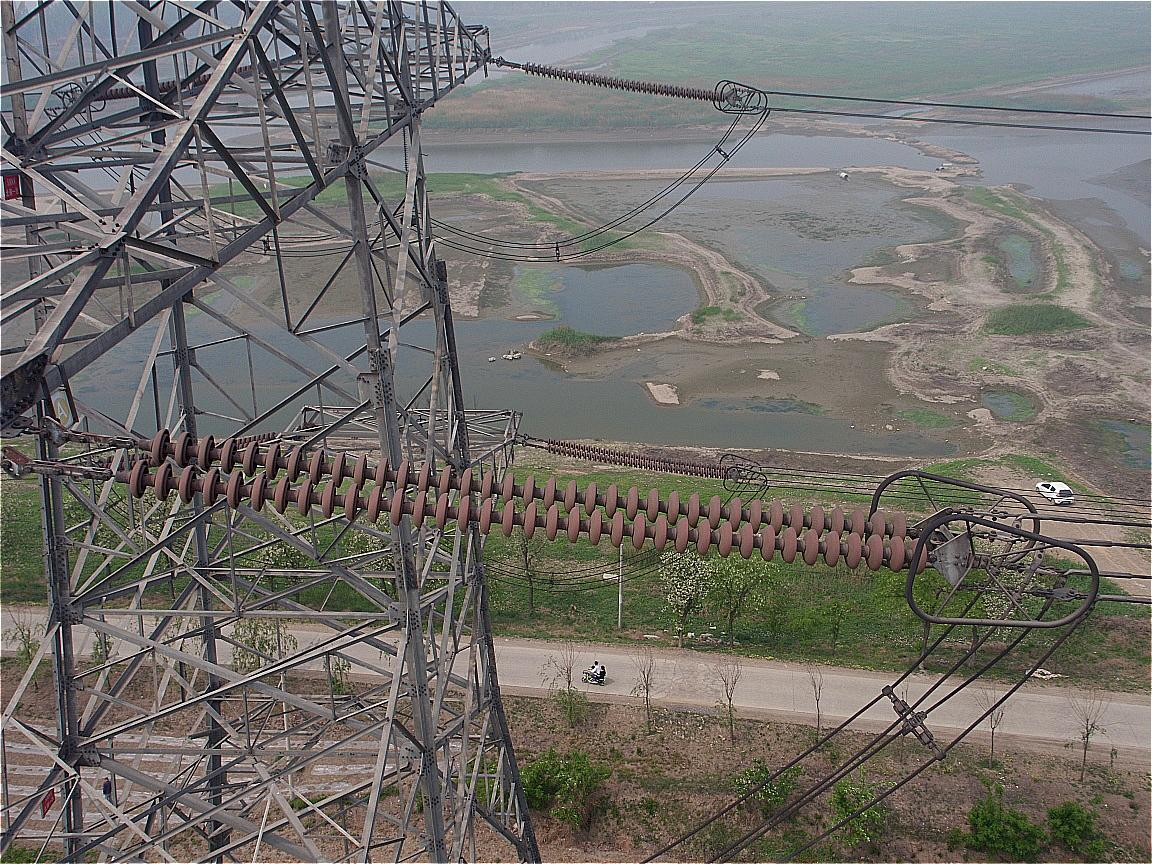insultor1: (133, 428, 929, 574)
insultor2: (525, 62, 726, 104), (549, 437, 730, 482)
